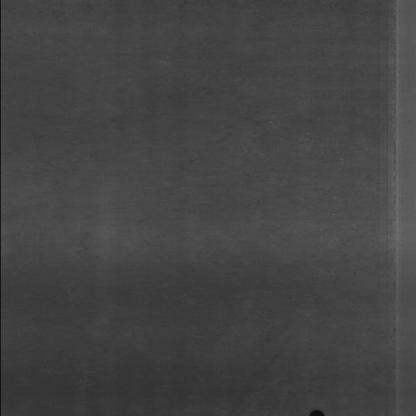punching_hole: (308, 408, 330, 416)
welding_line: (383, 0, 402, 416)
